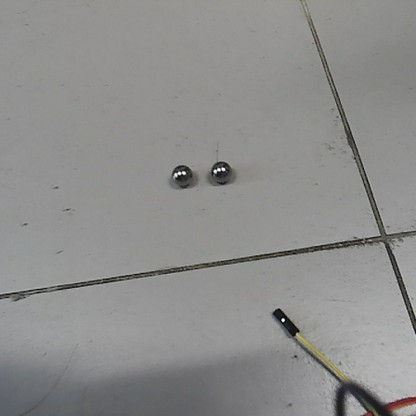ironball: (207, 160, 234, 184), (168, 163, 192, 185)
